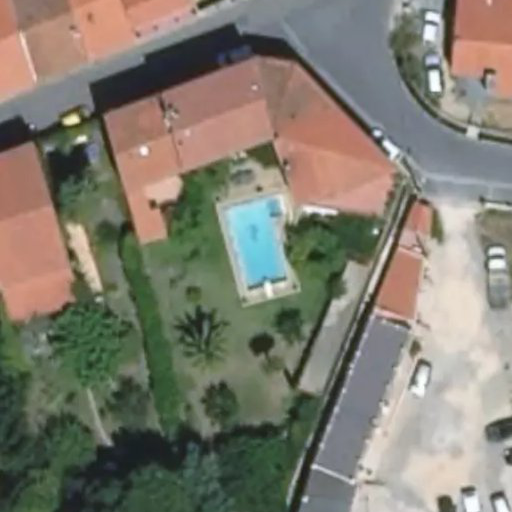pool: (225, 207, 295, 275)
